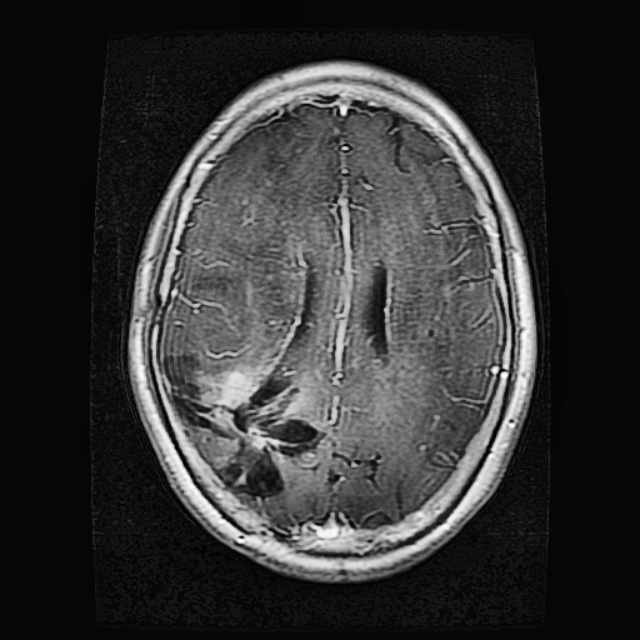Glioma: (158, 352, 323, 499)
